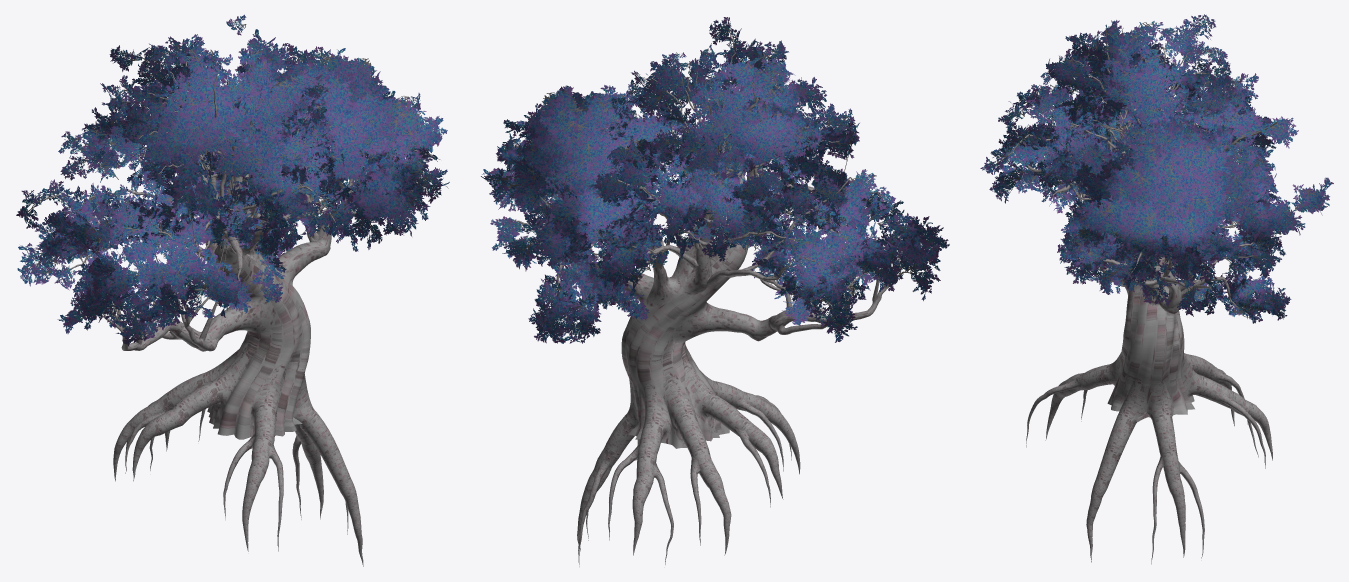
3 views of the same model, side by side, from view 1: azimuth 30°, elevation 25°; view 2: azimuth 150°, elevation 25°; view 3: azimuth 270°, elevation 25° (orthographic). The views are drawn at different scales.
Visible parts, largest first — view 1: SM_Hero_Tree_02_LOD0; view 2: SM_Hero_Tree_02_LOD0; view 3: SM_Hero_Tree_02_LOD0.
Part boxes in pixels (x1,y1,x2,y2): SM_Hero_Tree_02_LOD0: [16, 14, 449, 566]; SM_Hero_Tree_02_LOD0: [481, 17, 949, 566]; SM_Hero_Tree_02_LOD0: [980, 14, 1333, 564].
Size of the model in its own units: 23.6 by 29.7 by 19.56.
2 materials, 2 textured.
